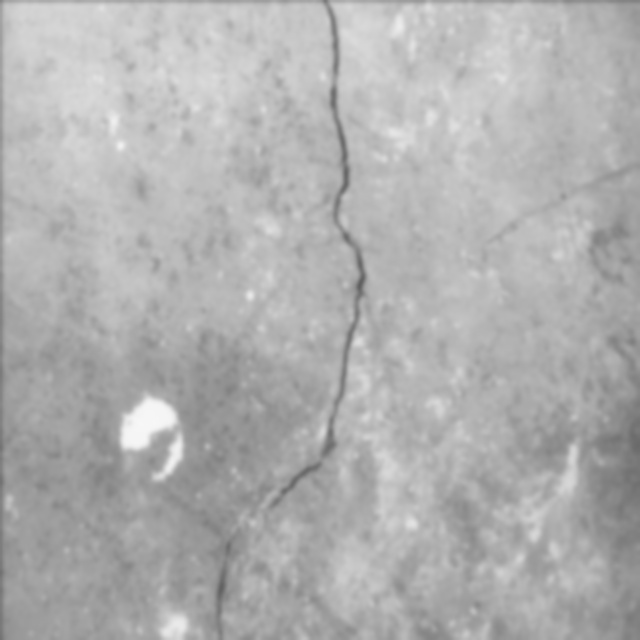SurfaceCrack: (184, 0, 399, 639)
